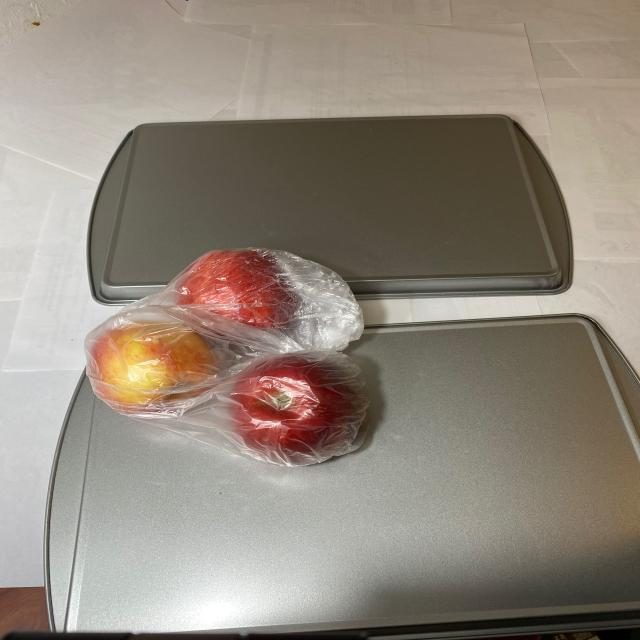apple: (85, 243, 368, 462)
